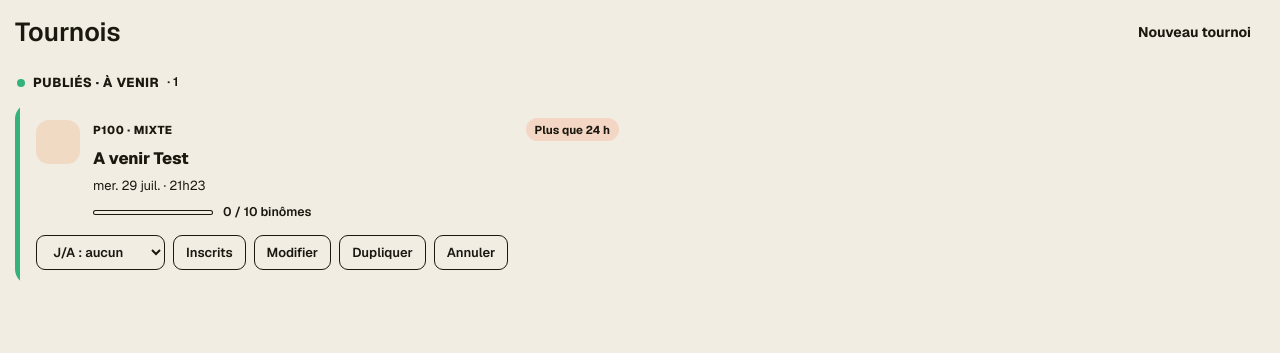
Test case: J/A d’un tournoi existant (carte de la liste) › un J/A refusé par le serveur affiche un message lisible, pas le code brut
Select "Léa Girard" in the dropdown named "Juge-arbitre — A venir Test" at coordinates (100, 252), box [36, 235, 165, 270]
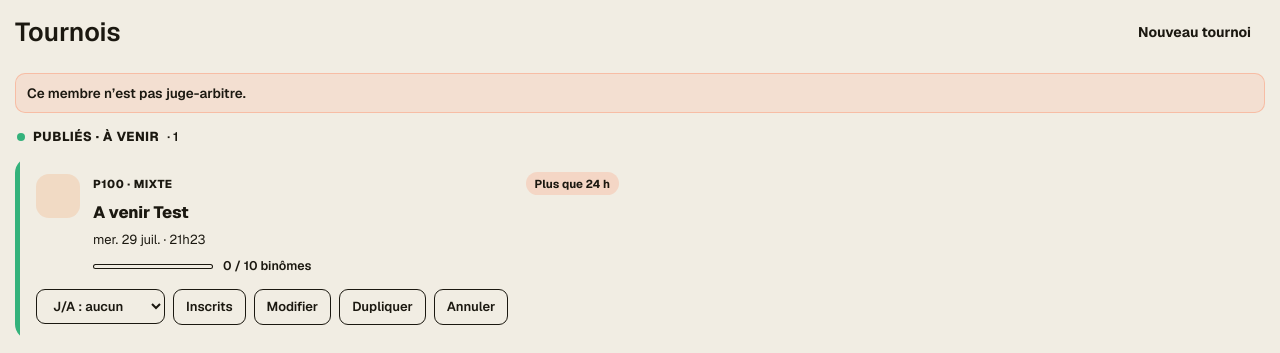
expect the text "Ce membre n’est pas juge-arbitre." is shown: met, box [15, 73, 1265, 113]
